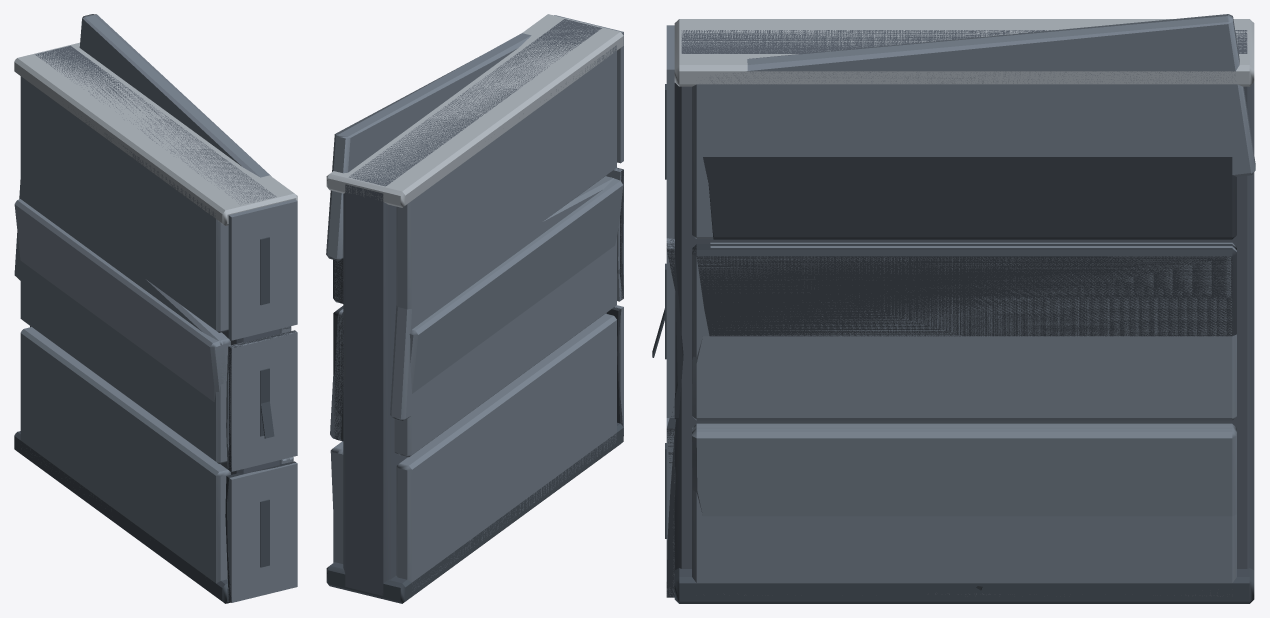
The model's file is shr_cmp_generic_panel_reinforced_b.glb.
3 views of the same model, side by side, from view 1: azimuth 30°, elevation 25°; view 2: azimuth 150°, elevation 25°; view 3: azimuth 270°, elevation 25° (orthographic). The views are drawn at different scales.
Visible parts, largest first — view 1: mesh_intact, mesh_heavy, mesh_light; view 2: mesh_intact, mesh_heavy, mesh_light; view 3: mesh_light, mesh_heavy, mesh_intact.
Boxes of the visible parts, bbox=[...] form: mesh_intact: bbox=[20, 76, 297, 602]; mesh_heavy: bbox=[14, 42, 297, 603]; mesh_light: bbox=[14, 14, 295, 601]; mesh_intact: bbox=[333, 15, 623, 591]; mesh_heavy: bbox=[326, 14, 623, 603]; mesh_light: bbox=[326, 33, 623, 603]; mesh_light: bbox=[666, 14, 1255, 603]; mesh_heavy: bbox=[652, 19, 1254, 603]; mesh_intact: bbox=[665, 25, 1247, 596].
Size of the model in its own units: 0.2241 by 1.08 by 1.01.
